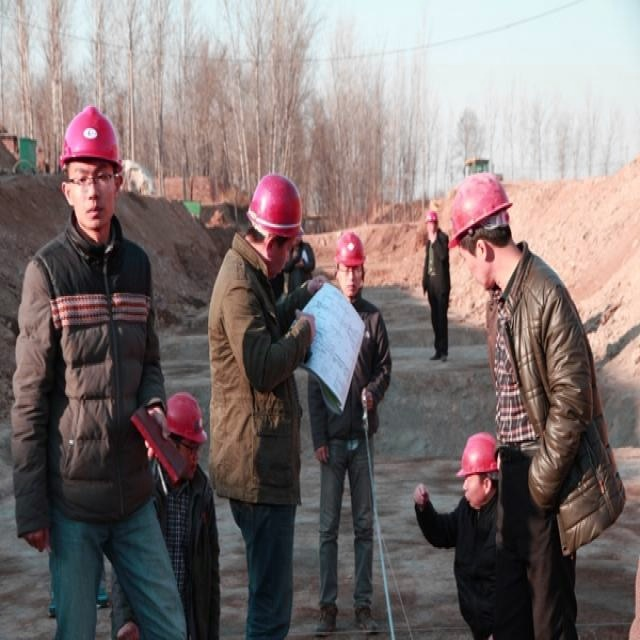Con_Casco: (451, 172, 515, 285), (61, 110, 123, 214)
Sin_Chaleco: (33, 240, 158, 508)
